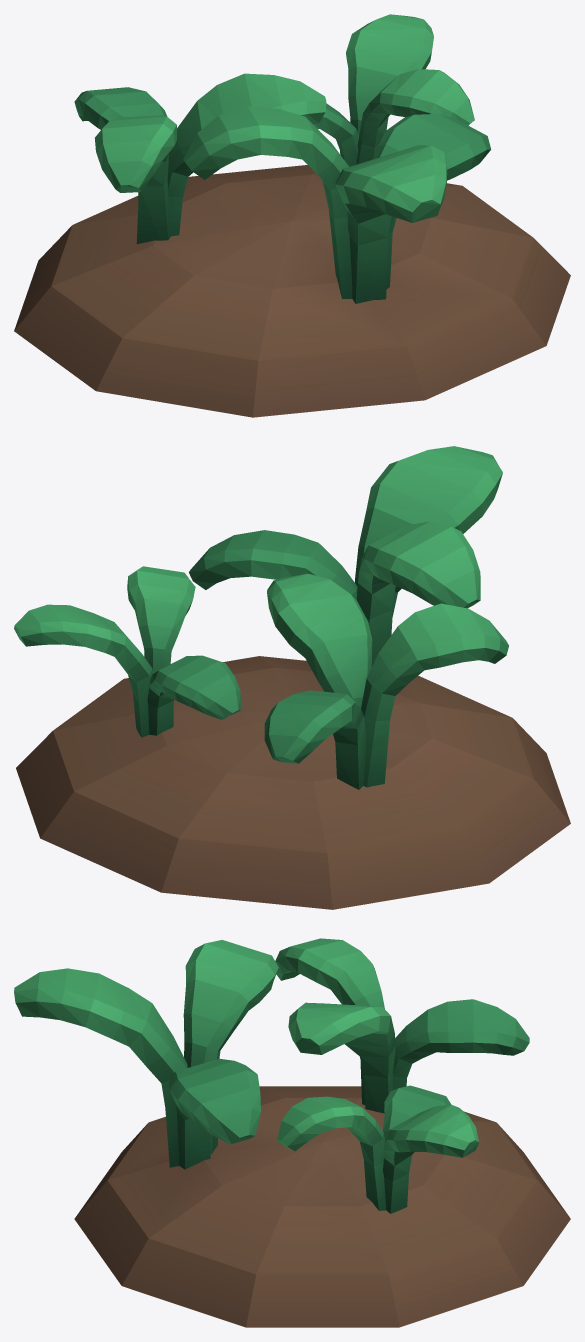
Rendered from crop_stage1.glb.
3 views of the same model, one above another, from view 1: azimuth 30°, elevation 25°; view 2: azimuth 150°, elevation 25°; view 3: azimuth 270°, elevation 25° (orthographic). The views are drawn at different scales.
Parts seen in each view (by area): view 1: crop_stage1; view 2: crop_stage1; view 3: crop_stage1.
Boxes of the visible parts, x1=… form: crop_stage1: x1=14, y1=14, x2=570, y2=417; crop_stage1: x1=14, y1=446, x2=570, y2=909; crop_stage1: x1=14, y1=938, x2=570, y2=1327.
Size of the model in its own units: 0.3614 by 0.18 by 0.3921.
Materials: 1 (1 with a texture image).
